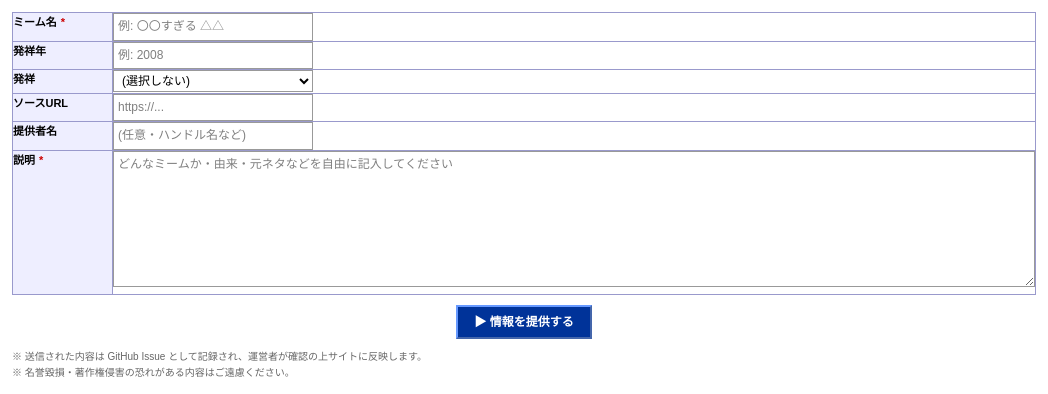
Test: SubmitForm › 正常入力で Worker に POST し、成功表示に切り替わる
Type "草" into the field with placeholder "例: 〇〇すぎる △△".
click(213, 27); type("草")  # box [113,13,313,41]
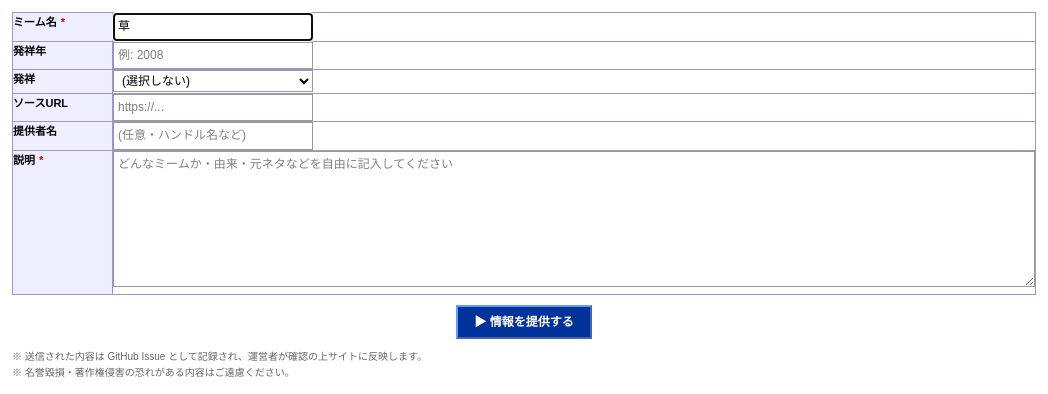
Type "笑いを表す表現" into the text box with placeholder "どんなミームか・由来・元ネタなどを自由に記入してください".
click(574, 219); type("笑いを表す表現")  # box [113,151,1035,287]
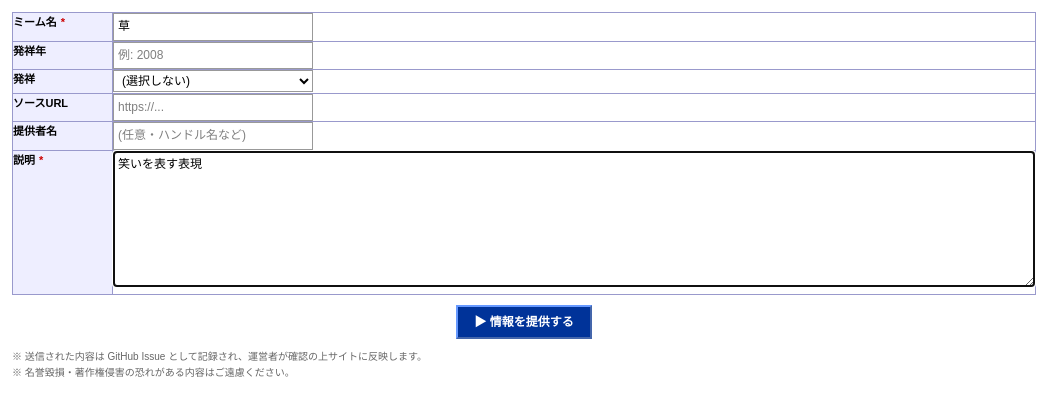
Type "2010" into the number field with placeholder "例: 2008".
click(213, 55); type("2010")  # box [113,42,313,69]
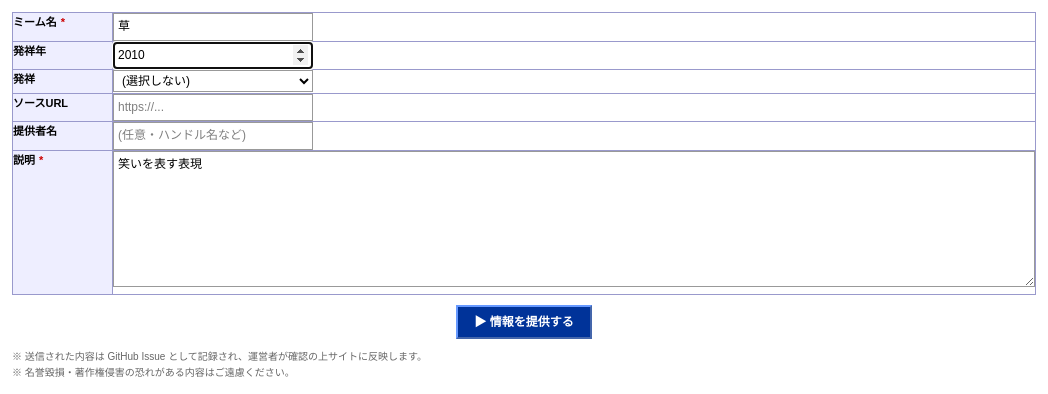
Click the button "▶ 情報を提供する".
click(524, 322)  # box [456,305,592,339]
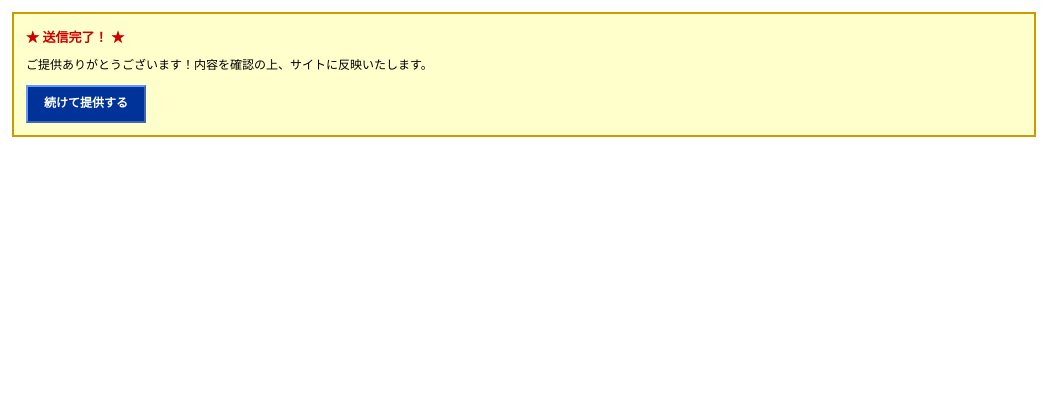
Expected: the text "★ 送信完了！ ★" is shown, [26,30,124,45]
